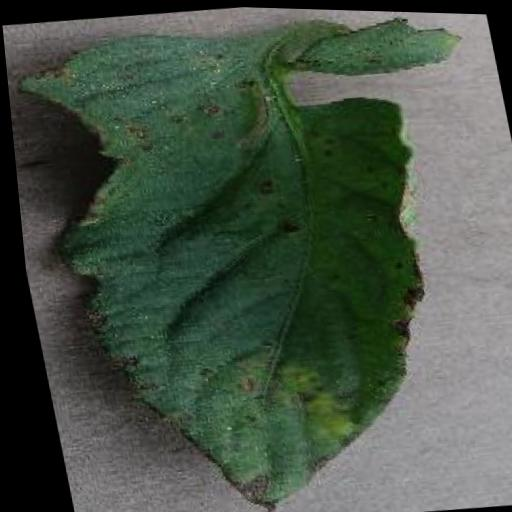Bacterial Spot: (0, 0, 477, 512)
